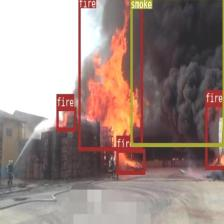fire: (78, 0, 142, 150), (205, 102, 224, 168), (116, 148, 145, 174), (56, 106, 76, 130)
smoke: (130, 0, 224, 146)
